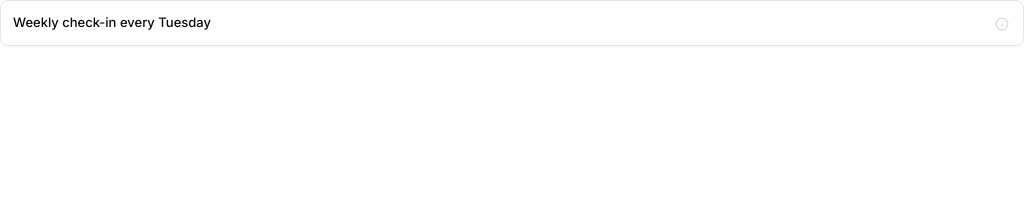
CompactAgreementCard › enters edit mode when Edit is clicked
The image size is (1024, 205).
Flip to back
Click the button named "agreement options". click: (1002, 24)
box: [993,15,1011,33]
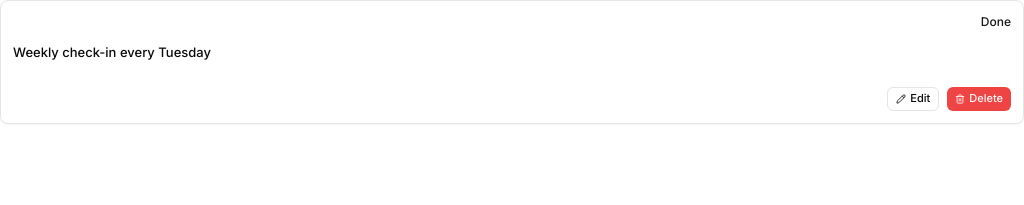
Click Edit
Click the button "Edit". click: (913, 98)
box: [887,86,939,110]
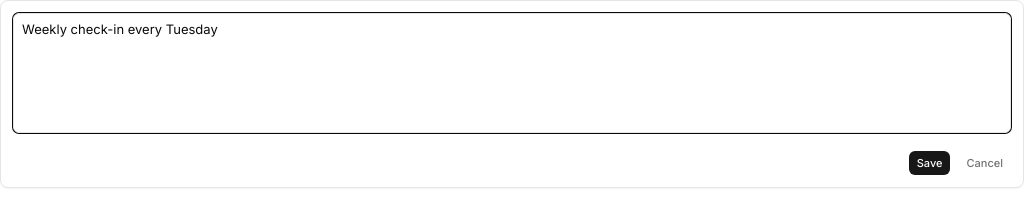
Check: the text box holds "Weekly check-in every Tuesday", box [13,13,1011,133]
